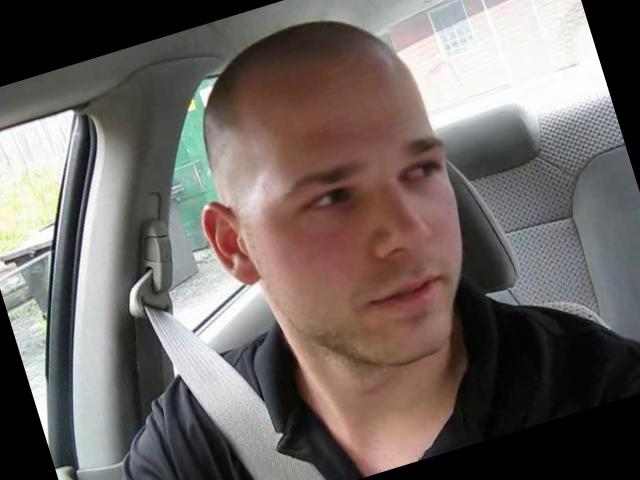eye_open: (290, 174, 366, 232), (392, 149, 451, 196)
face: (238, 109, 502, 394)
